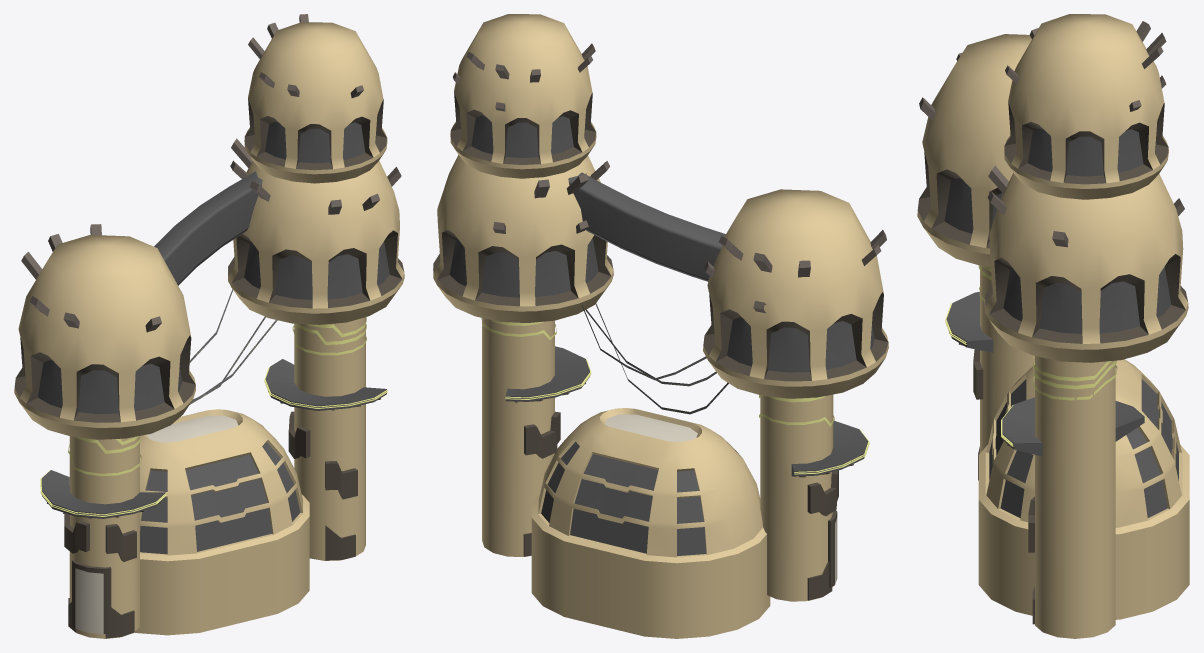
The model's file is NorthEast_Hotel_01.fbx.
The picture shows the model from 3 angles, left to right: view 1: azimuth 30°, elevation 25°; view 2: azimuth 150°, elevation 25°; view 3: azimuth 270°, elevation 25°; orthographic projection. The views are drawn at different scales.
Visible parts, largest first — view 1: NorthEast_Hotel_01; view 2: NorthEast_Hotel_01; view 3: NorthEast_Hotel_01.
Boxes of the visible parts, x1=… form: NorthEast_Hotel_01: x1=14, y1=14, x2=404, y2=638; NorthEast_Hotel_01: x1=433, y1=14, x2=888, y2=638; NorthEast_Hotel_01: x1=917, y1=14, x2=1189, y2=638.
Size of the model in its own units: 69.59 by 89.05 by 36.09.
